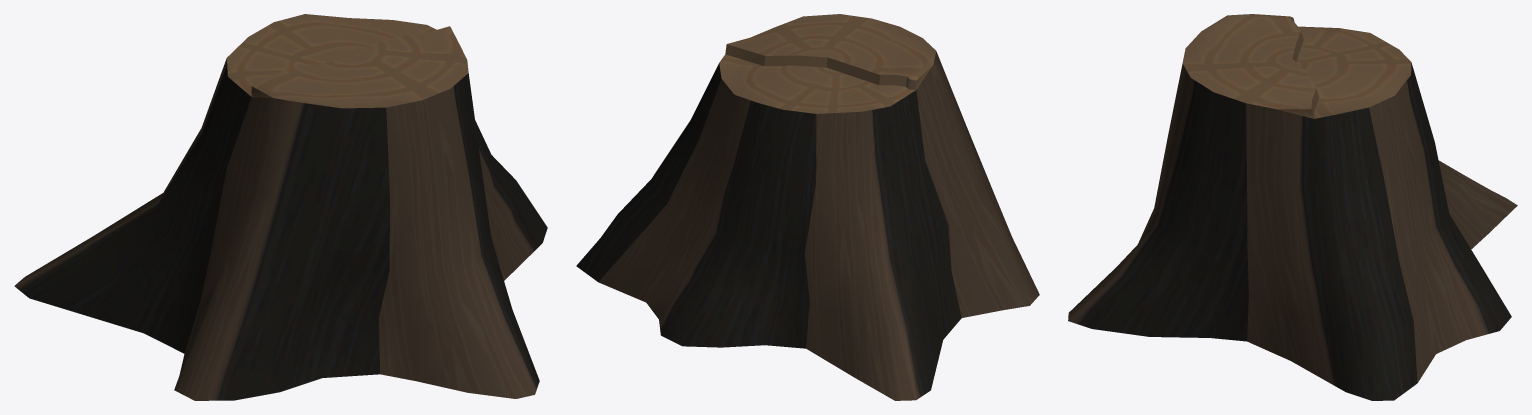
Rendered from tree stump.glb.
The picture shows the model from 3 angles, left to right: view 1: azimuth 30°, elevation 25°; view 2: azimuth 150°, elevation 25°; view 3: azimuth 270°, elevation 25°; orthographic projection. The views are drawn at different scales.
Visible parts, largest first — view 1: Paintball_Stump; view 2: Paintball_Stump; view 3: Paintball_Stump.
Boxes of the visible parts, x1,y1,x2,y2 form: Paintball_Stump: [14, 14, 547, 400]; Paintball_Stump: [576, 14, 1039, 400]; Paintball_Stump: [1068, 14, 1517, 400].
Size of the model in its own units: 2.29 by 1.26 by 2.14.
Materials: 1 (1 with a texture image).
